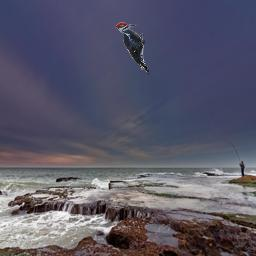Woodpecker: (115, 22, 149, 75)
